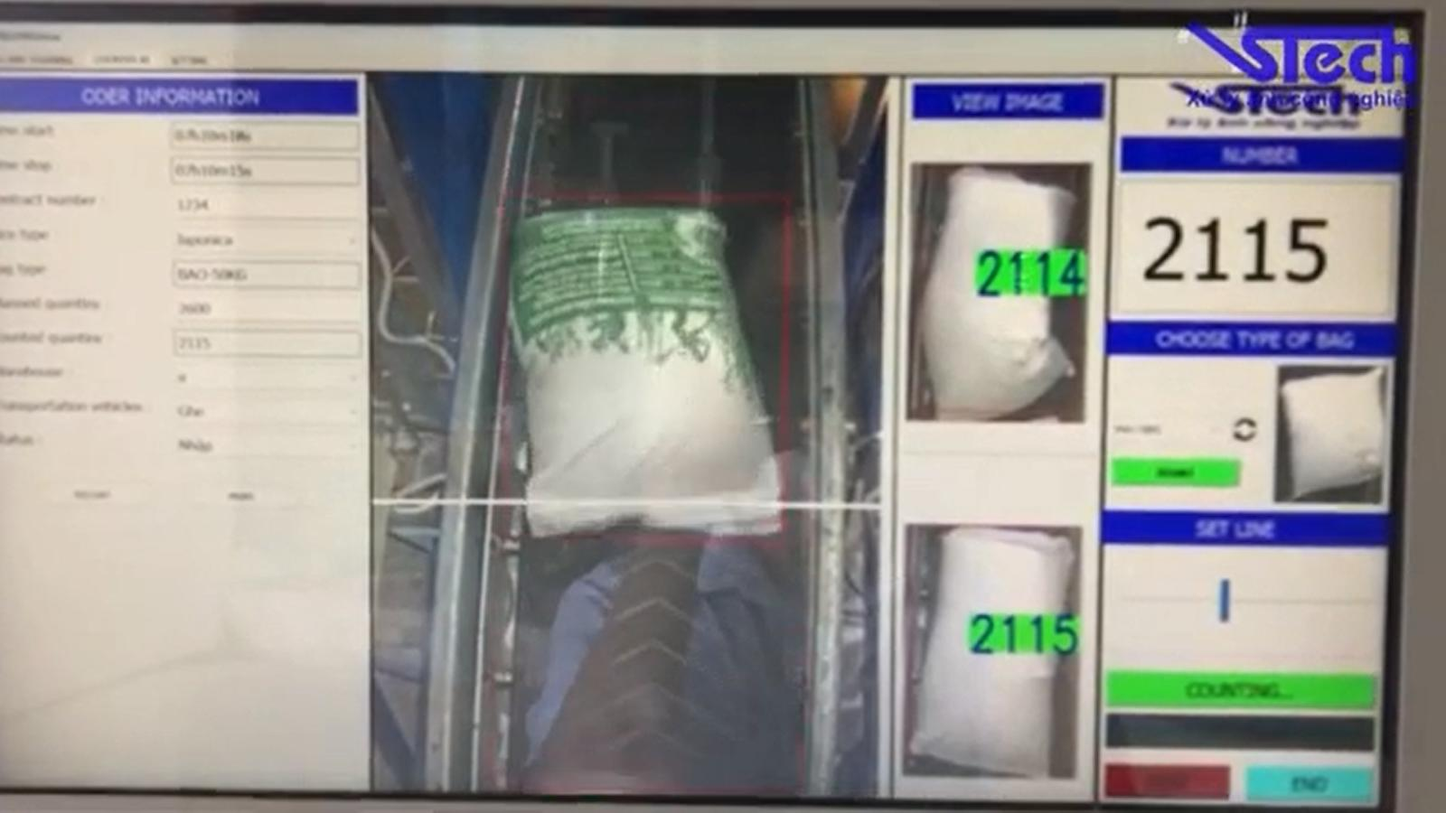rice-bag: (508, 199, 777, 533), (910, 164, 1075, 422), (911, 527, 1072, 776)
